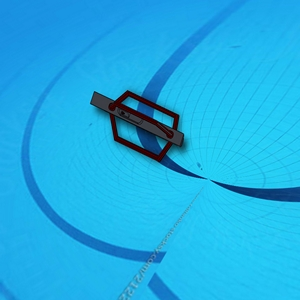submarine: (86, 89, 185, 162)
